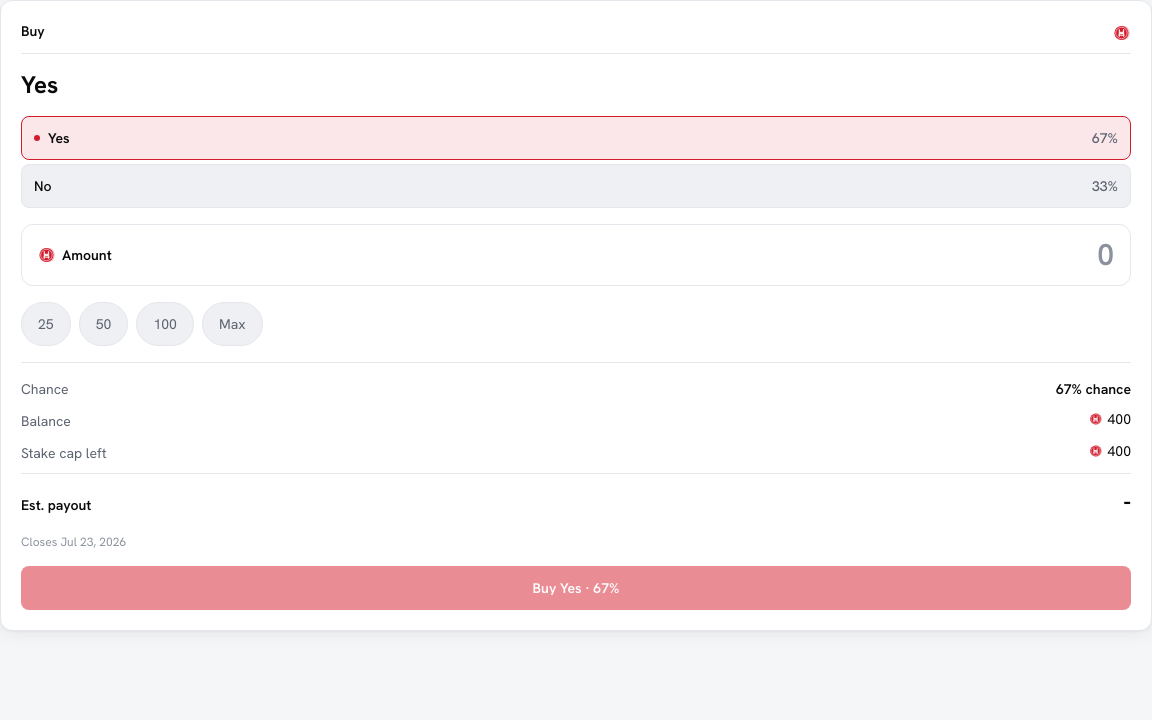
Test: OrderPanel › submits the bet against the selected outcome and applies the fill optimistically
Type "100" into the number field labelled "Amount". click: {"x": 619, "y": 255}
box: [124,237,1114,273]
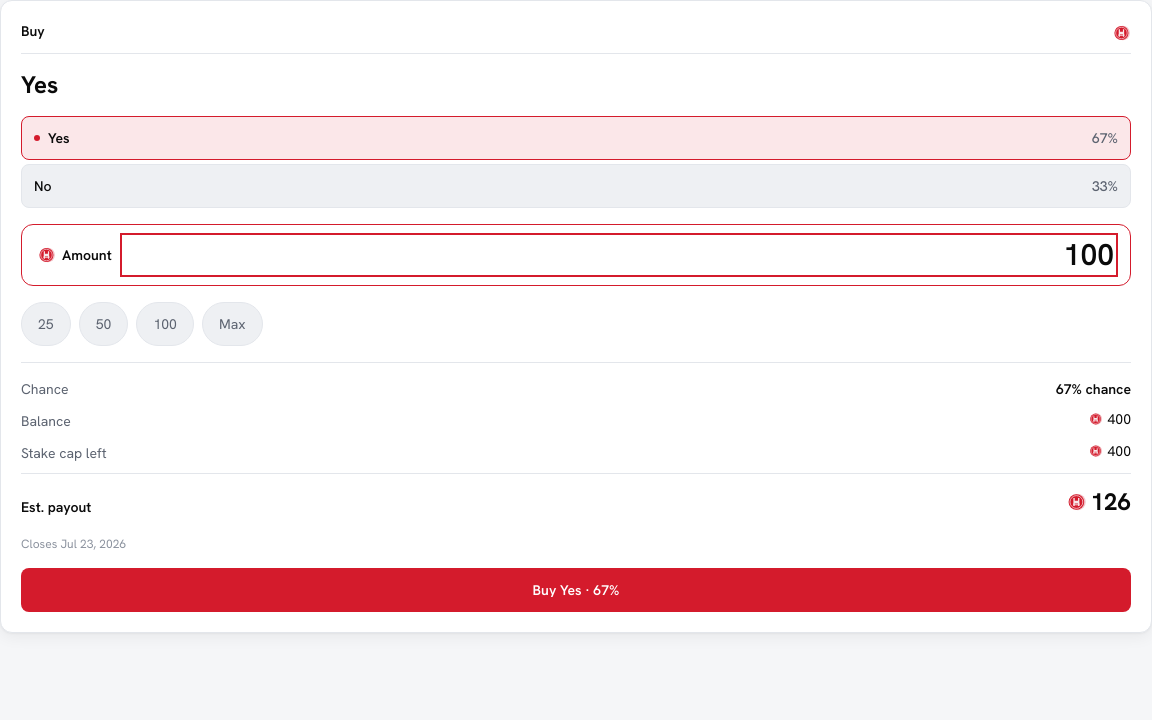
Click the button "Buy Yes · 67%". click: {"x": 576, "y": 590}
box: [21,568,1131,612]
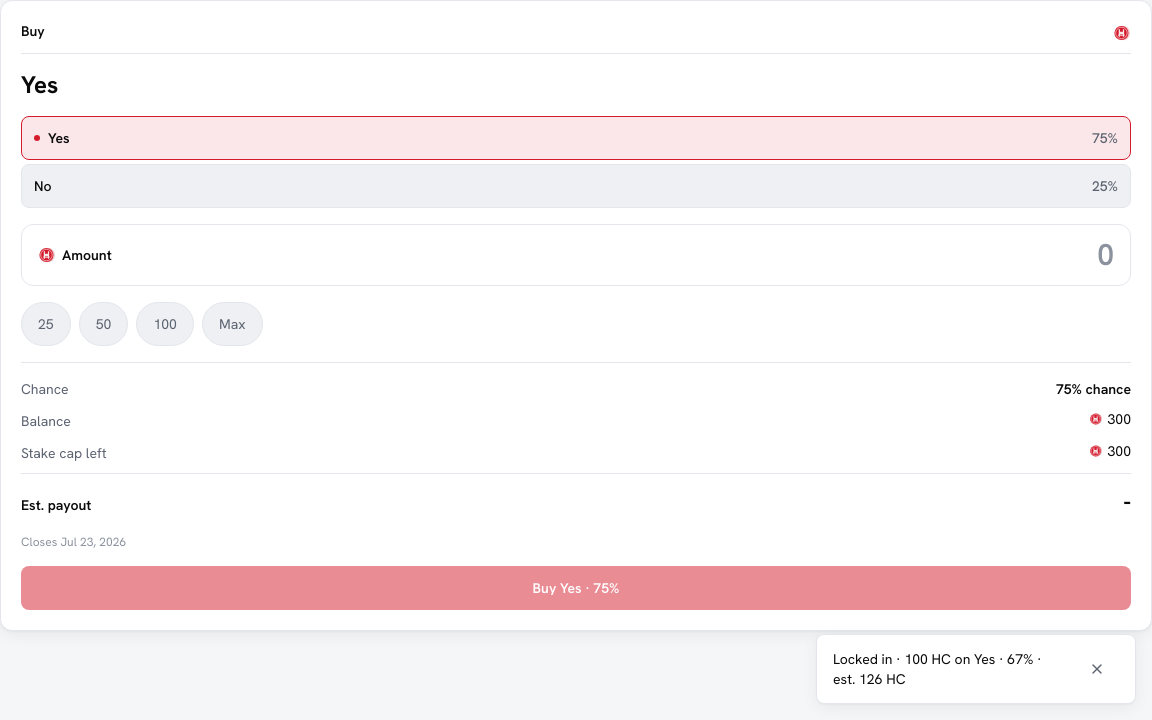
Check: the button "Yes 75%" is shown, box [21,116,1131,160]
